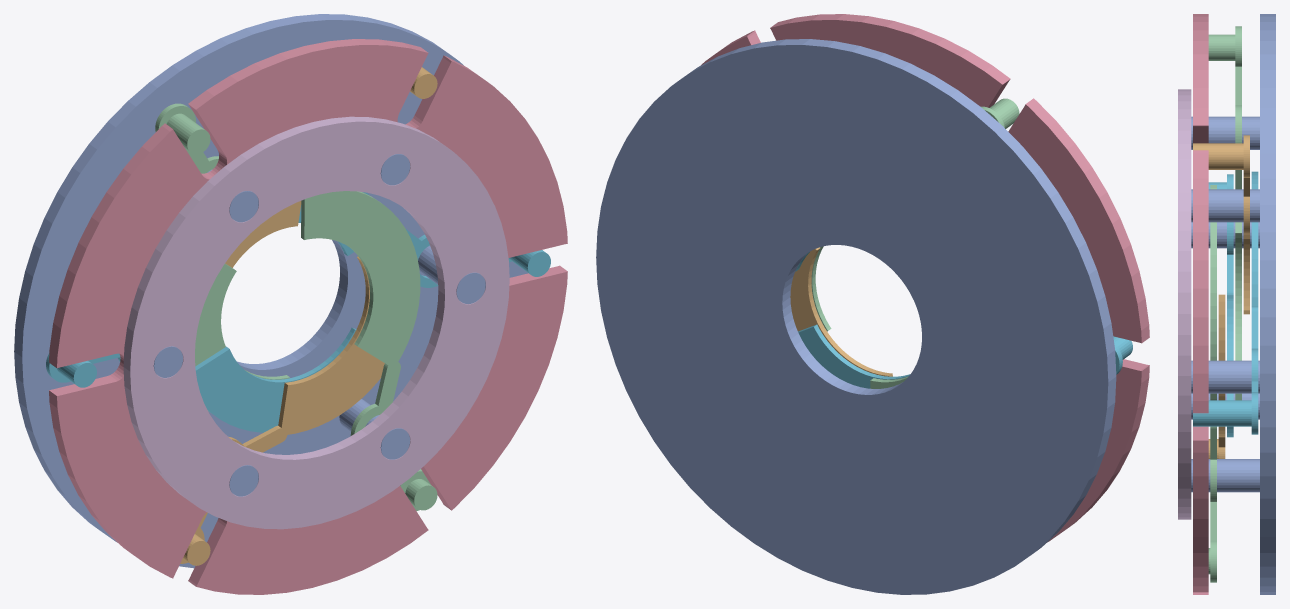
Rendered from iris_diaphragm_demo.glb.
3 views of the same model, side by side, from view 1: azimuth 30°, elevation 25°; view 2: azimuth 150°, elevation 25°; view 3: azimuth 270°, elevation 25° (orthographic).
Parts seen in each view (by area): view 1: drive_ring, retainer_cap, base_ring, leaf_5, leaf_4, leaf_3, leaf_2, leaf_1, leaf_0; view 2: base_ring, drive_ring, leaf_3, leaf_4, leaf_2; view 3: base_ring, drive_ring, retainer_cap, leaf_0, leaf_2, leaf_1, leaf_5, leaf_3, leaf_4.
Boxes of the visible parts, <box> form: drive_ring: <box>49,39,567,594</box>; retainer_cap: <box>123,116,509,529</box>; base_ring: <box>14,14,527,568</box>; leaf_5: <box>301,191,437,510</box>; leaf_4: <box>180,256,384,565</box>; leaf_3: <box>46,327,356,432</box>; leaf_2: <box>155,103,289,411</box>; leaf_1: <box>225,67,437,267</box>; leaf_0: <box>298,192,550,287</box>; base_ring: <box>596,39,1116,594</box>; drive_ring: <box>701,14,1149,542</box>; leaf_3: <box>798,324,1132,388</box>; leaf_4: <box>790,247,892,376</box>; leaf_2: <box>870,98,1019,388</box>; base_ring: <box>1191,14,1275,594</box>; drive_ring: <box>1193,14,1208,594</box>; retainer_cap: <box>1178,89,1191,519</box>; leaf_0: <box>1193,171,1258,434</box>; leaf_2: <box>1208,26,1241,400</box>; leaf_1: <box>1193,135,1249,314</box>; leaf_5: <box>1208,185,1216,582</box>; leaf_3: <box>1208,174,1233,437</box>; leaf_4: <box>1208,294,1225,458</box>.
Bounding box in the file's own units: 88 × 88 × 14.8.
